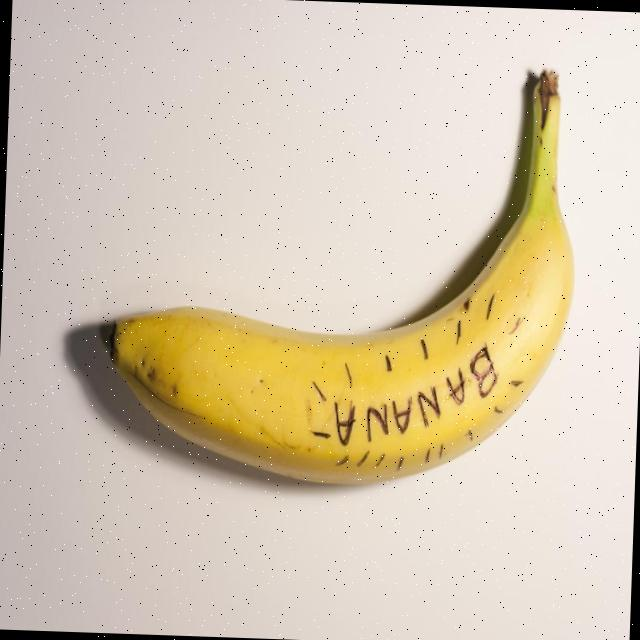banana: (105, 69, 573, 482)
